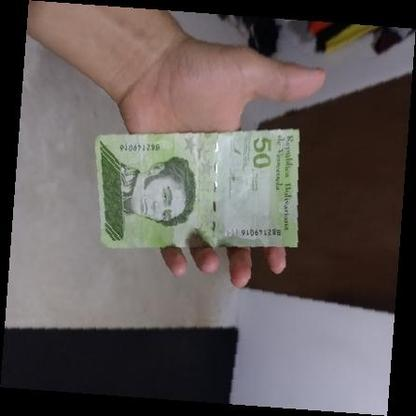fifty-front-vef: (94, 128, 300, 247)
